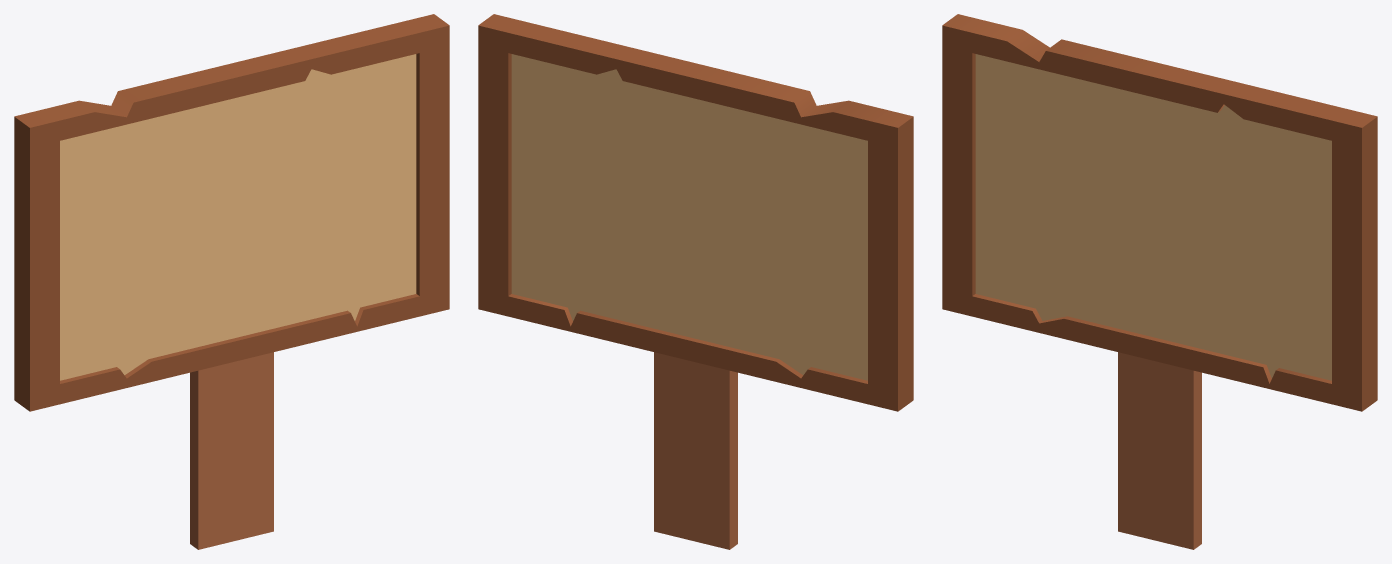
File: Board.fbx
The picture shows the model from 3 angles, left to right: view 1: azimuth 30°, elevation 25°; view 2: azimuth 150°, elevation 25°; view 3: azimuth 330°, elevation 25°; orthographic projection.
Visible parts, largest first — view 1: pCube3; view 2: pCube3; view 3: pCube3.
Boxes of the visible parts, <box> form: pCube3: <box>14,14,449,549</box>; pCube3: <box>478,14,913,549</box>; pCube3: <box>942,14,1377,549</box>.
Size of the model in its own units: 971 by 1031 by 62.8.
